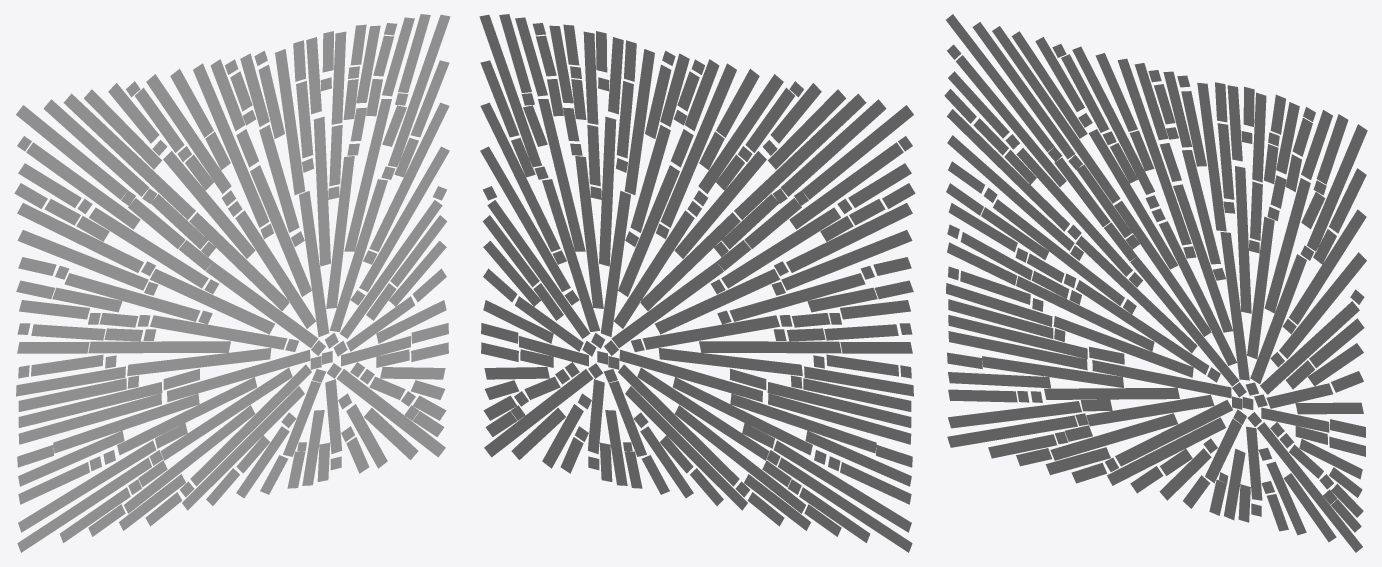
The model's file is stella.gltf.
3 renders of one model, left to right at view 1: azimuth 30°, elevation 25°; view 2: azimuth 150°, elevation 25°; view 3: azimuth 330°, elevation 25°, orthographic. The views are drawn at different scales.
Parts seen in each view (by area): view 1: stella111; view 2: stella111; view 3: stella111.
Part boxes in pixels (left/top/right/bottom): stella111: left=14, top=14, right=450, bottom=552; stella111: left=479, top=14, right=915, bottom=552; stella111: left=944, top=14, right=1367, bottom=552.
Bounding box in the file's own units: 513 × 510 × 0.
Materials: 185 (185 with a texture image).
